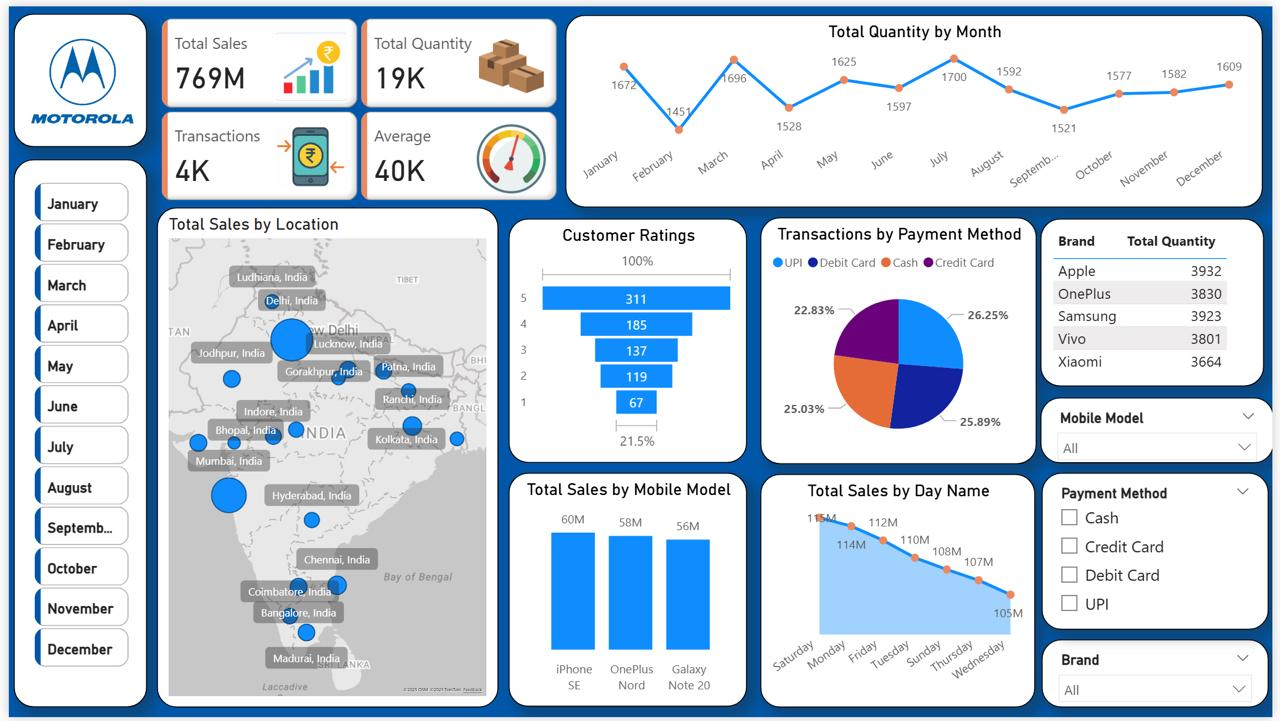

The page's visual inventory and layout, read from the dashboard file:
{"tool":"powerbi","page":{"name":"Page 1","canvas":[1280,720],"ordinal":0},"visuals":[{"type":"shape","box":[5,7.5,135,135],"z":0},{"type":"image","box":[16.2,16.2,116.2,118.8],"z":1000},{"type":"shape","box":[5,155,135,555],"z":2000},{"type":"advancedSlicerVisual","fields":{"Values":["Sales_Data.Date.Variation.Date Hierarchy.Month"]},"box":[21.2,173.8,105,511.2],"z":3000},{"type":"cardVisual","fields":{"Data":["Sales_Data.Total Sales","Sales_Data.Total Quantity","Sales_Data.Total Transactions","Sales_Data.Average"]},"box":[150.2,7.4,411,195.9],"z":4000},{"type":"azureMap","fields":{"Size":["Sales_Data.Total Sales"],"Category":["Sales_Data.FullLocation"]},"box":[150.2,203.3,346.1,506.7],"z":5000},{"type":"clusteredColumnChart","fields":{"Category":["Sales_Data.Mobile Model"],"Y":["Sales_Data.Total Sales"]},"box":[506.7,472.8,241.6,237.1],"z":6000},{"type":"lineChart","fields":{"Category":["Sales_Data.Date.Variation.Date Hierarchy.Month","Sales_Data.Date.Variation.Date Hierarchy.Day"],"Y":["Sales_Data.Total Quantity"]},"box":[563.3,8.3,706.7,195],"z":7000},{"type":"pieChart","fields":{"Category":["Sales_Data.Payment Method"],"Y":["Sales_Data.Transactions"]},"box":[761.7,213.3,280,250],"z":8000},{"type":"funnel","title":"Customer Ratings","fields":{"Category":["Sales_Data.Customer Ratings"],"Y":["CountNonNull(Sales_Data.Customer Ratings)"]},"box":[506.7,215.1,241.6,247.5],"z":9000},{"type":"areaChart","fields":{"Category":["Sales_Data.Day Name"],"Y":["Sales_Data.Total Sales"]},"box":[761.7,473.3,278.3,236.7],"z":10000},{"type":"tableEx","fields":{"Values":["Sales_Data.Brand","Sales_Data.Total Quantity"]},"box":[1045,215,226.7,170],"z":11000},{"type":"slicer","fields":{"Values":["Sales_Data.Mobile Model"]},"box":[1045,396.7,236.7,66.7],"z":11001},{"type":"slicer","fields":{"Values":["Sales_Data.Brand"]},"box":[1045.8,640.7,229.8,69.2],"z":11002},{"type":"slicer","fields":{"Values":["Sales_Data.Payment Method"]},"box":[1045.8,472.8,229.8,159.1],"z":11003}]}

Visuals, with their boxes in screenshot pixels (x1, y1, x2, y2), scaled from the page's 1280x720 canvas onto the 1280x721 screenshot:
shape: BBox(5, 8, 140, 143)
image: BBox(16, 16, 132, 135)
shape: BBox(5, 155, 140, 711)
advancedSlicerVisual - Sales_Data.Date.Variation.Date Hierarchy.Month: BBox(21, 174, 126, 686)
cardVisual - Sales_Data.Total Sales x Sales_Data.Total Quantity: BBox(150, 7, 561, 204)
azureMap - Sales_Data.Total Sales x Sales_Data.FullLocation: BBox(150, 204, 496, 711)
clusteredColumnChart - Sales_Data.Mobile Model x Sales_Data.Total Sales: BBox(507, 473, 748, 711)
lineChart - Sales_Data.Date.Variation.Date Hierarchy.Month x Sales_Data.Date.Variation.Date Hierarchy.Day: BBox(563, 8, 1270, 204)
pieChart - Sales_Data.Payment Method x Sales_Data.Transactions: BBox(762, 214, 1042, 464)
"Customer Ratings" funnel: BBox(507, 215, 748, 463)
areaChart - Sales_Data.Day Name x Sales_Data.Total Sales: BBox(762, 474, 1040, 711)
tableEx - Sales_Data.Brand x Sales_Data.Total Quantity: BBox(1045, 215, 1272, 386)
slicer - Sales_Data.Mobile Model: BBox(1045, 397, 1279, 464)
slicer - Sales_Data.Brand: BBox(1046, 642, 1276, 711)
slicer - Sales_Data.Payment Method: BBox(1046, 473, 1276, 633)
